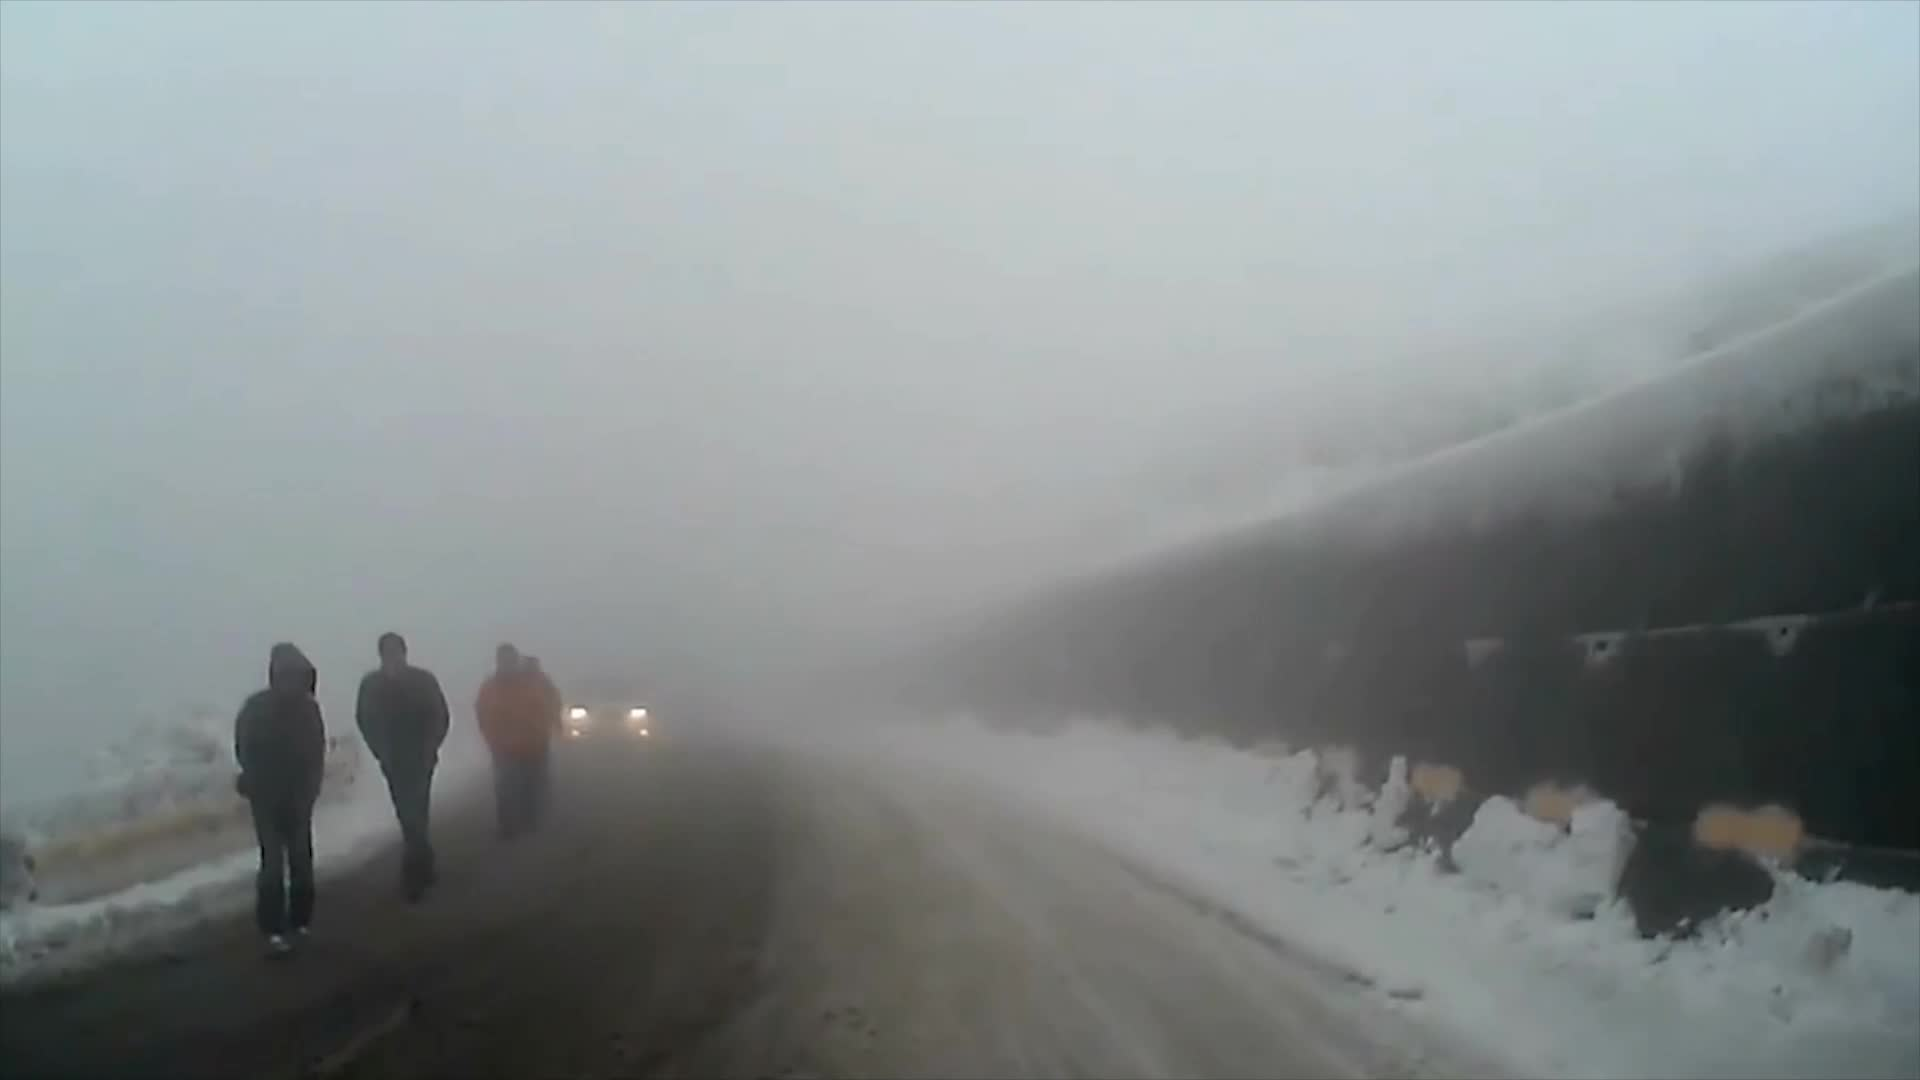pedestrian: (233, 638, 330, 946), (354, 631, 451, 906), (473, 639, 563, 843)
vehicle: (560, 676, 657, 756)
